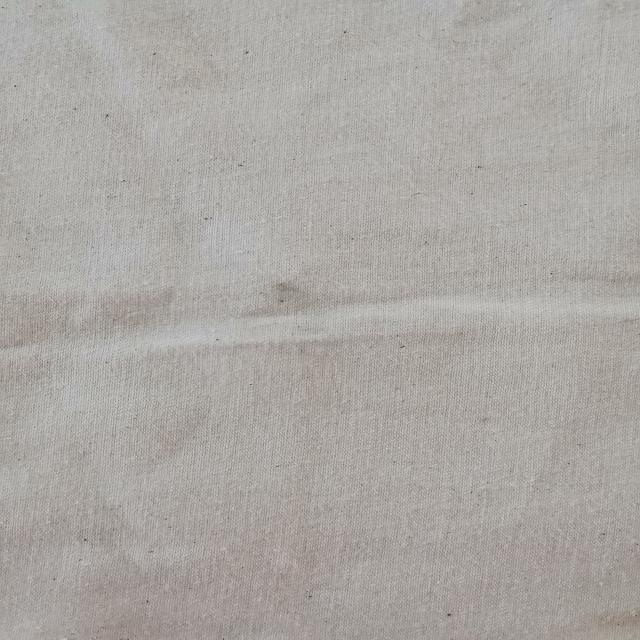taaaches: (243, 261, 345, 333)
